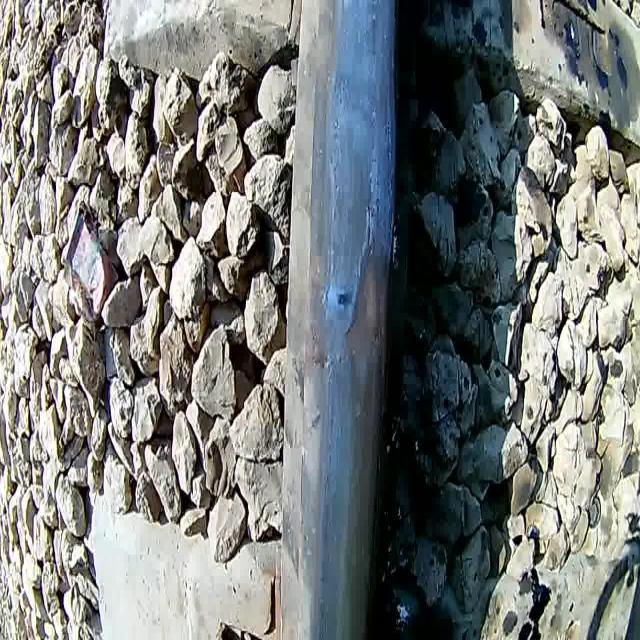Spallings: (302, 330, 351, 382)
Squats: (334, 225, 402, 384), (334, 150, 381, 275)
